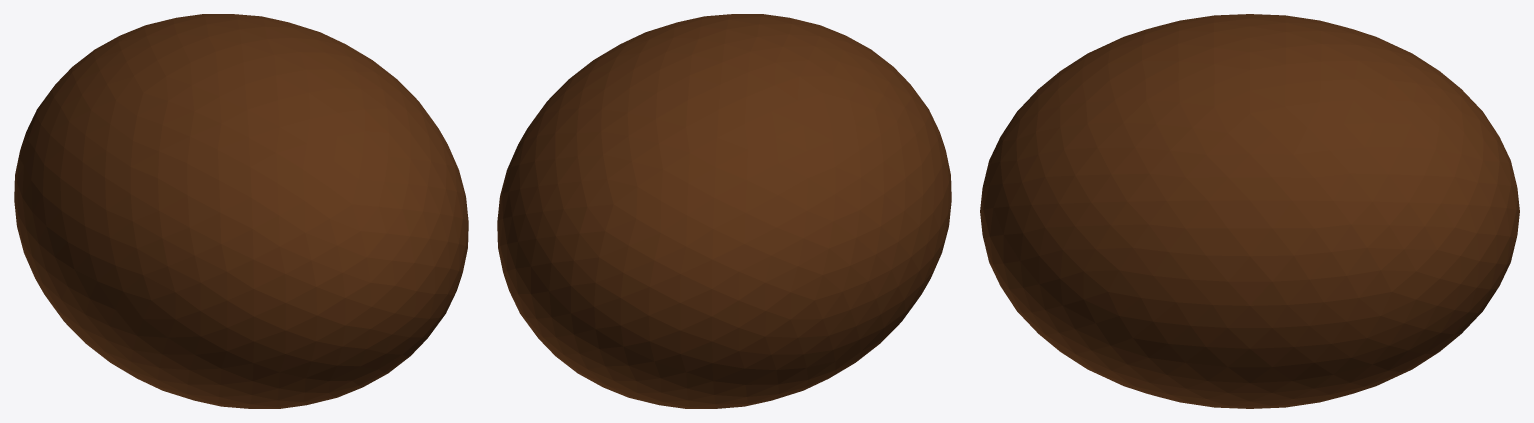
File: torso.obj
The picture shows the model from 3 angles, left to right: view 1: azimuth 30°, elevation 25°; view 2: azimuth 150°, elevation 25°; view 3: azimuth 270°, elevation 25°; orthographic projection. The views are drawn at different scales.
Bounding box in the file's own units: 0.24 × 0.206 × 0.29.
